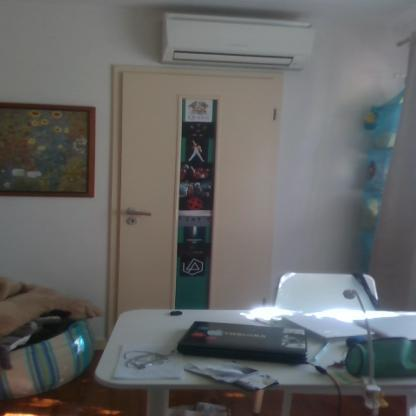door: (122, 69, 276, 323)
hinged: (262, 298, 268, 306), (273, 108, 276, 123)
lever: (128, 207, 152, 217)
